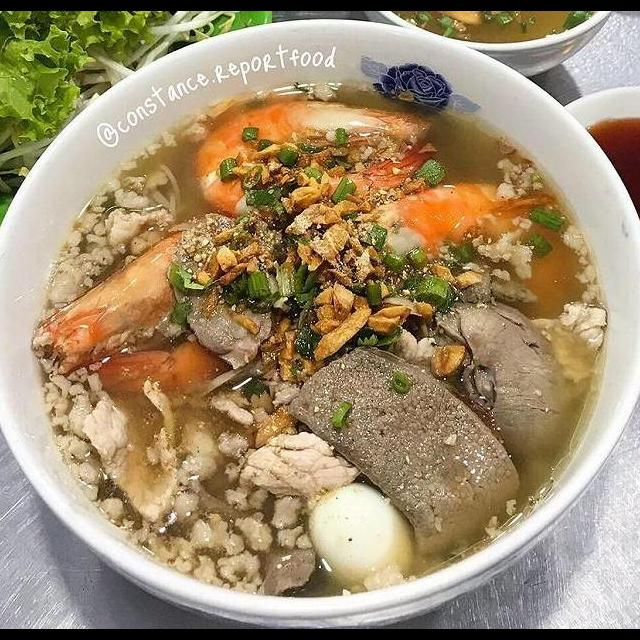gan: (282, 339, 526, 563)
thit bam: (39, 106, 212, 310), (128, 417, 317, 598), (39, 366, 131, 522), (458, 212, 543, 285), (550, 214, 605, 311), (482, 147, 549, 211)
thit heo: (73, 373, 186, 530), (229, 426, 368, 505), (518, 299, 611, 386)
tom: (30, 209, 273, 405), (188, 94, 438, 224), (351, 178, 569, 324)
